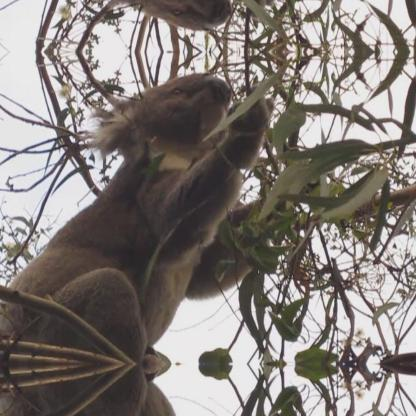Monkey: (52, 69, 248, 361)
